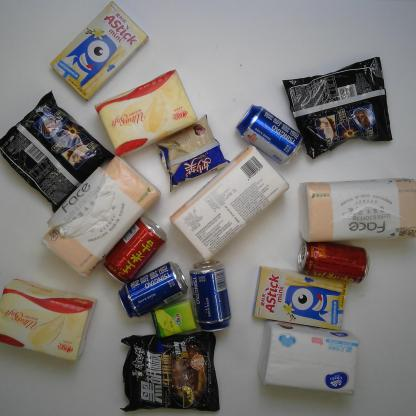Alcohol: (118, 262, 192, 322), (237, 102, 302, 166), (186, 260, 233, 330)
Dessert: (51, 0, 152, 95), (248, 262, 349, 331), (154, 116, 231, 185)
Drink: (288, 238, 380, 289), (106, 214, 166, 283)
Instant Noodles: (1, 95, 120, 206), (286, 55, 401, 159), (124, 330, 224, 412)
Tissue: (42, 153, 160, 277), (170, 144, 292, 261), (87, 74, 201, 154), (0, 277, 93, 373), (258, 321, 369, 398), (300, 177, 416, 244), (149, 298, 200, 338)
